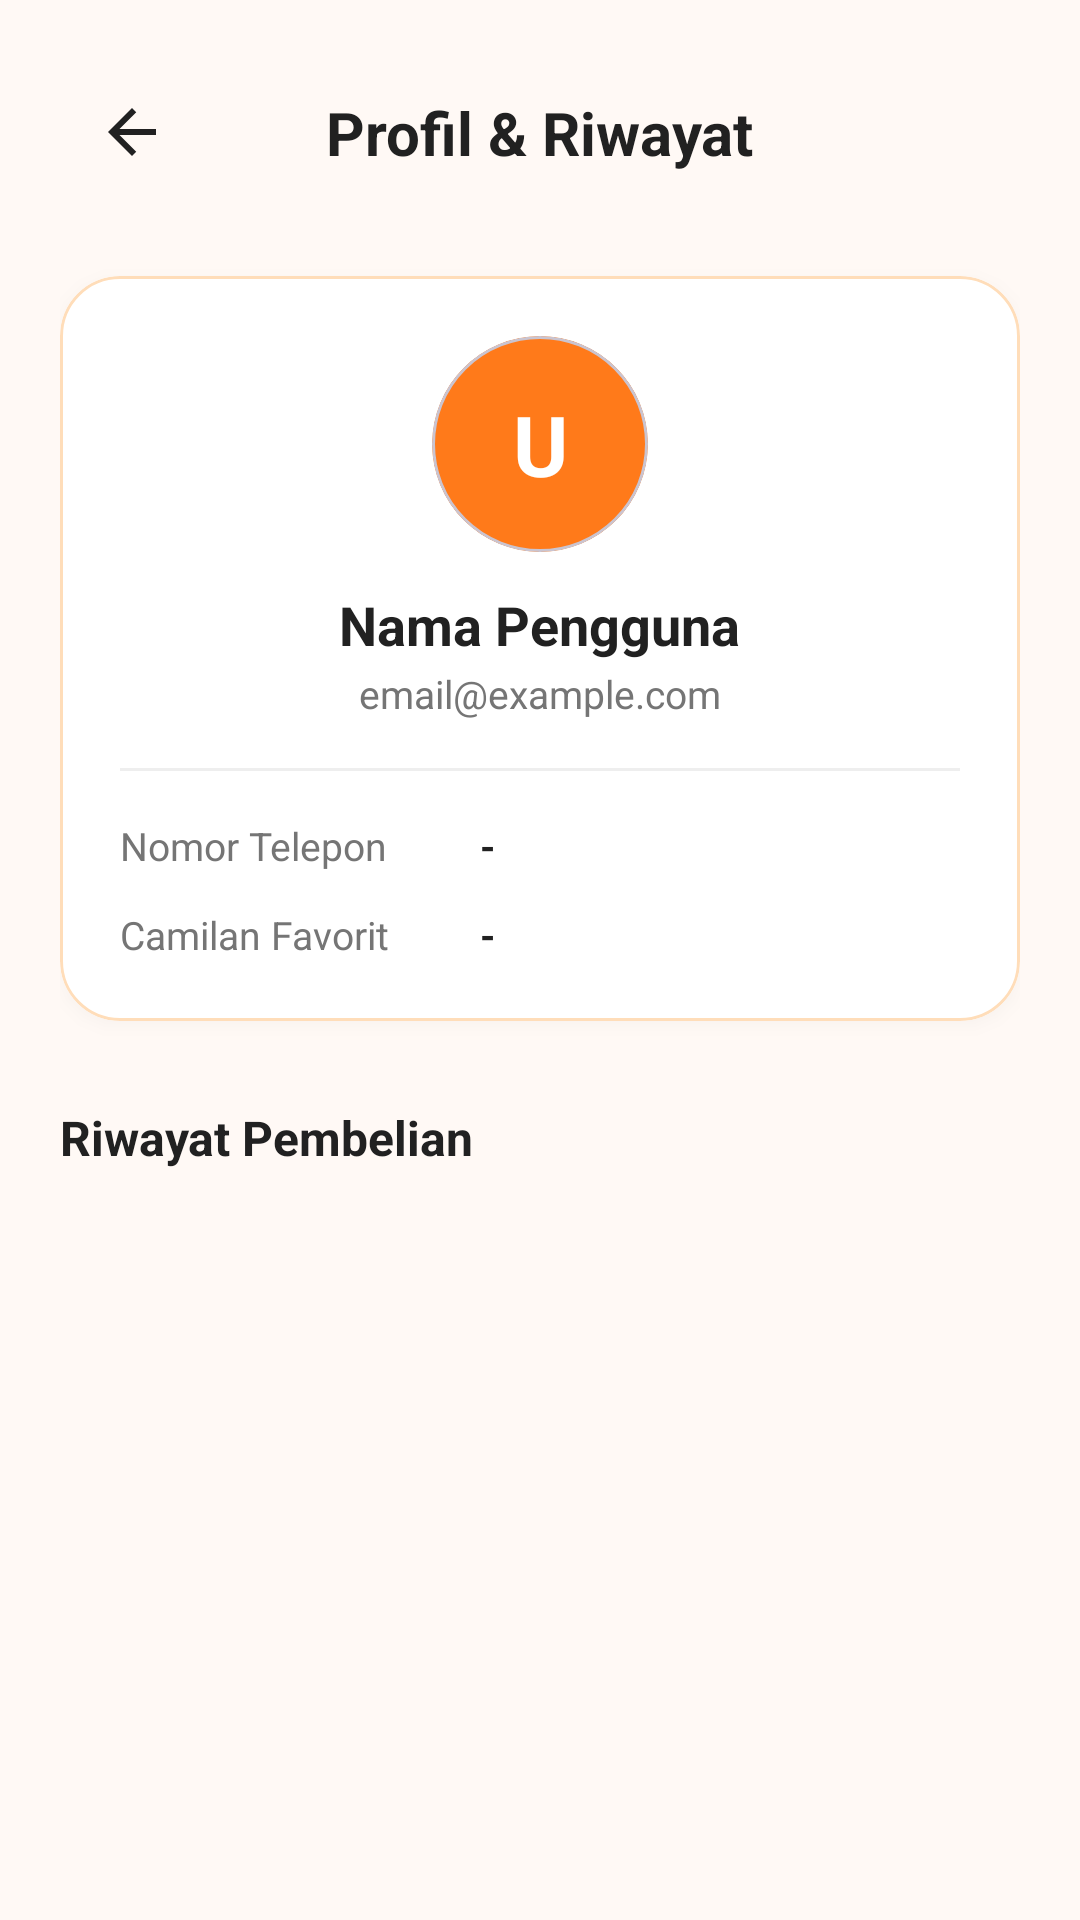

Point at icon controls on the screen. Image size 1080px x 1920px, points as (x=x, y=y).
Kembali: (x=132, y=132)
